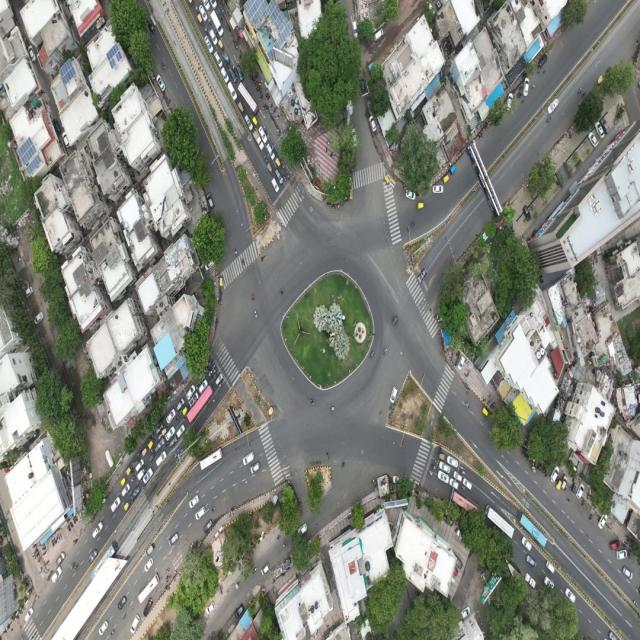3W: (390, 312, 401, 328), (122, 499, 132, 514), (148, 438, 157, 454), (126, 463, 135, 478), (595, 73, 604, 88), (480, 405, 489, 420), (160, 426, 171, 438), (554, 476, 562, 492), (384, 171, 391, 188), (442, 172, 451, 185), (449, 163, 458, 176), (265, 162, 274, 175), (141, 445, 149, 459), (182, 405, 192, 416), (436, 450, 446, 461), (120, 475, 129, 487), (197, 13, 204, 28), (238, 100, 245, 115), (252, 115, 259, 129), (218, 38, 224, 53), (416, 201, 425, 211), (571, 482, 578, 493), (275, 157, 281, 169), (188, 0, 194, 8)
Bus: (515, 503, 550, 552), (90, 539, 121, 584), (185, 381, 215, 426), (484, 500, 516, 541), (450, 487, 483, 523), (133, 572, 162, 604), (236, 80, 259, 117), (196, 447, 225, 473)
Cars: (90, 519, 104, 541), (564, 584, 578, 606), (541, 573, 556, 593), (154, 72, 167, 95), (233, 600, 246, 623), (546, 97, 561, 116), (258, 560, 273, 579), (415, 266, 429, 286), (129, 613, 141, 636), (600, 113, 612, 136), (537, 51, 550, 72), (194, 502, 208, 521), (524, 550, 538, 569), (296, 519, 309, 539), (143, 596, 154, 619), (145, 14, 156, 37), (87, 546, 99, 567), (520, 534, 534, 552), (50, 566, 63, 585), (54, 550, 67, 569), (167, 530, 180, 549), (373, 26, 386, 45), (227, 81, 238, 103), (258, 123, 269, 145), (597, 510, 608, 532), (129, 484, 141, 504), (198, 377, 210, 397), (549, 464, 561, 484), (389, 381, 399, 405), (544, 557, 557, 575), (203, 35, 214, 56), (219, 64, 230, 85), (368, 112, 378, 135), (98, 619, 110, 638), (110, 495, 122, 514), (142, 467, 154, 486), (587, 131, 599, 150), (506, 91, 515, 116), (243, 451, 257, 467), (143, 557, 156, 574), (437, 470, 450, 487), (166, 407, 177, 427), (23, 605, 35, 623), (156, 449, 168, 467), (236, 62, 246, 83), (391, 472, 405, 487), (249, 461, 263, 476), (188, 392, 199, 411), (198, 4, 209, 23), (213, 50, 224, 69), (243, 113, 254, 132), (350, 15, 358, 41), (404, 185, 417, 201), (446, 454, 459, 470), (206, 190, 215, 213), (351, 125, 359, 150), (189, 494, 202, 509), (438, 459, 451, 474), (202, 519, 214, 535), (204, 600, 216, 616), (117, 594, 127, 613), (121, 482, 131, 501), (209, 27, 219, 46), (266, 143, 276, 162), (595, 122, 605, 141), (523, 205, 533, 224), (457, 352, 467, 371), (575, 482, 585, 501), (155, 437, 166, 454), (448, 477, 460, 492), (522, 75, 530, 97), (622, 566, 633, 582), (271, 176, 280, 195), (215, 371, 225, 388), (228, 67, 238, 84), (275, 168, 285, 185), (616, 549, 629, 562), (175, 424, 186, 439), (609, 538, 621, 551), (145, 542, 156, 556), (431, 184, 445, 195), (462, 478, 473, 492), (561, 472, 568, 493), (135, 457, 144, 473), (155, 420, 164, 436), (166, 425, 175, 441), (169, 433, 178, 449), (359, 74, 366, 94), (177, 398, 186, 413), (187, 383, 194, 402), (453, 470, 463, 483), (201, 0, 211, 10)
LCV: (210, 9, 224, 37), (252, 127, 265, 152), (522, 570, 536, 589), (222, 50, 231, 64)
M2W: (74, 559, 80, 575), (308, 395, 315, 408), (110, 625, 117, 638), (189, 537, 195, 552), (31, 628, 38, 640), (576, 83, 583, 95), (632, 599, 640, 609), (383, 344, 388, 360), (70, 560, 76, 572), (137, 448, 143, 460), (329, 403, 336, 413), (370, 348, 375, 362), (214, 29, 220, 40), (252, 565, 258, 576), (210, 503, 216, 514), (121, 611, 127, 622), (31, 541, 37, 551), (161, 61, 167, 71), (259, 92, 264, 104), (281, 163, 287, 173), (427, 468, 433, 478), (340, 460, 346, 470), (371, 477, 377, 487), (460, 484, 467, 492), (430, 463, 437, 471), (37, 556, 43, 565), (73, 538, 79, 547), (175, 415, 181, 424), (195, 5, 201, 14), (207, 17, 213, 26), (231, 64, 237, 73), (263, 154, 269, 163), (410, 221, 416, 230), (282, 541, 288, 550), (280, 285, 284, 298), (141, 485, 146, 495), (150, 446, 155, 456), (282, 173, 287, 183), (231, 503, 236, 513), (33, 548, 40, 555), (131, 468, 138, 475), (165, 567, 172, 574), (51, 537, 55, 549), (157, 432, 163, 440), (464, 401, 470, 409), (581, 496, 585, 508), (589, 512, 593, 524), (433, 457, 439, 465), (69, 520, 74, 529), (136, 456, 141, 465), (269, 102, 274, 111), (276, 112, 281, 121), (276, 128, 281, 137), (255, 310, 259, 321), (544, 469, 548, 480), (131, 475, 137, 482), (138, 478, 144, 485), (545, 116, 551, 123), (624, 534, 631, 540), (208, 359, 212, 369), (234, 247, 238, 257), (251, 292, 255, 302), (224, 61, 228, 71), (265, 103, 269, 113), (264, 92, 269, 100), (272, 105, 276, 115), (263, 124, 267, 134), (271, 141, 275, 151), (279, 156, 283, 166), (288, 172, 292, 182), (480, 130, 485, 138), (536, 463, 540, 473), (57, 532, 60, 545), (67, 524, 71, 533), (219, 380, 223, 389), (242, 258, 246, 267), (205, 27, 209, 36), (251, 76, 257, 82), (253, 81, 259, 87), (267, 133, 271, 142), (275, 150, 279, 159), (522, 448, 526, 457), (460, 469, 466, 475), (179, 408, 184, 415), (213, 368, 218, 375), (477, 135, 482, 142), (517, 92, 522, 99), (438, 445, 443, 452), (277, 535, 284, 540), (59, 531, 62, 542), (195, 385, 200, 391), (542, 465, 545, 475), (165, 441, 169, 448), (263, 103, 267, 110), (73, 516, 76, 525), (532, 458, 535, 467), (539, 463, 542, 472), (621, 543, 626, 548), (208, 371, 212, 377), (212, 363, 216, 369), (235, 44, 239, 50), (256, 87, 262, 91), (267, 94, 270, 102), (527, 451, 529, 463), (258, 90, 262, 95), (525, 449, 527, 459), (210, 376, 213, 382)
